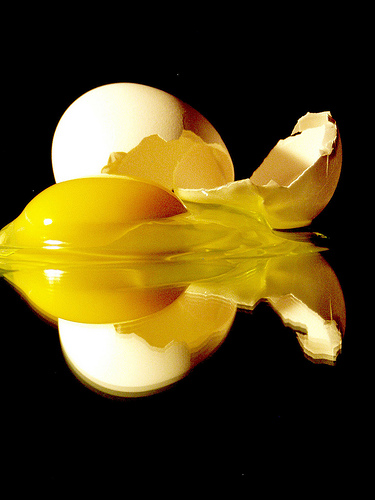egg: (0, 77, 350, 398)
